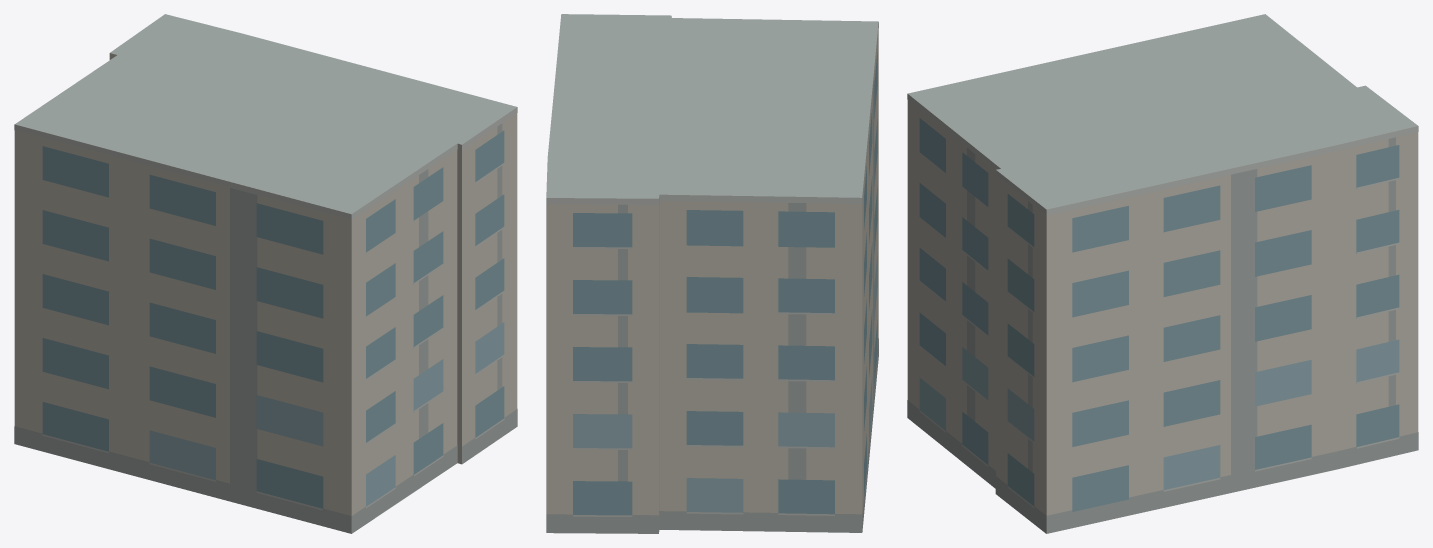
The model's file is survey-upis-32882499.glb.
The picture shows the model from 3 angles, left to right: view 1: azimuth 30°, elevation 25°; view 2: azimuth 150°, elevation 25°; view 3: azimuth 270°, elevation 25°; orthographic projection. The views are drawn at different scales.
Visible parts, largest first — view 1: survey-upis-32882499.tmp; view 2: survey-upis-32882499.tmp; view 3: survey-upis-32882499.tmp.
Boxes of the visible parts, left/top/right/bottom form: survey-upis-32882499.tmp: left=14, top=14, right=517, bottom=533; survey-upis-32882499.tmp: left=546, top=14, right=878, bottom=533; survey-upis-32882499.tmp: left=907, top=14, right=1418, bottom=533.
Bounding box in the file's own units: 17.08 × 13.2 × 18.86.
